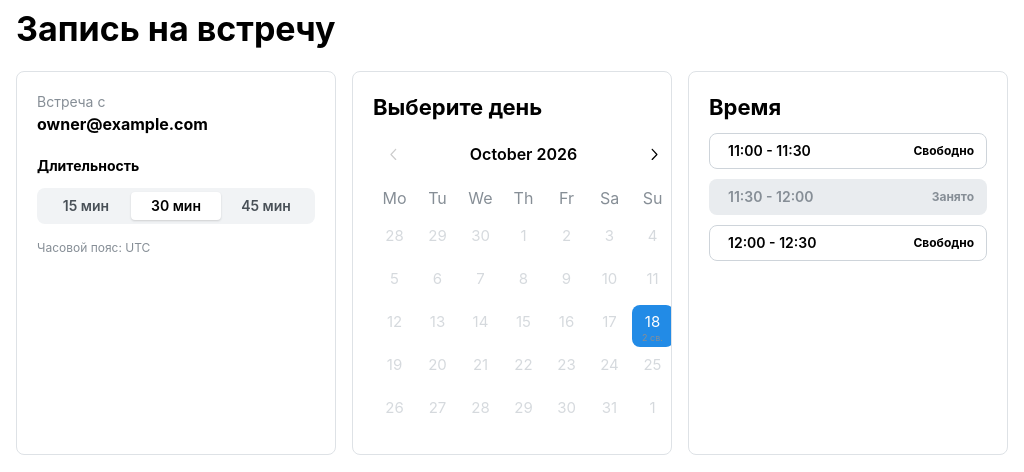
Test: гостевая страница: календарь владельца › смена длительности перезапрашивает лестницу
This screenshot has width=1024, height=472.
Expected: the button "11:00 - 11:30 Свободно" is shown, [709,133,987,169]
Step 1. Click the radio button labelled "45 мин" → coordinates (266, 206), box [241,197,291,214]
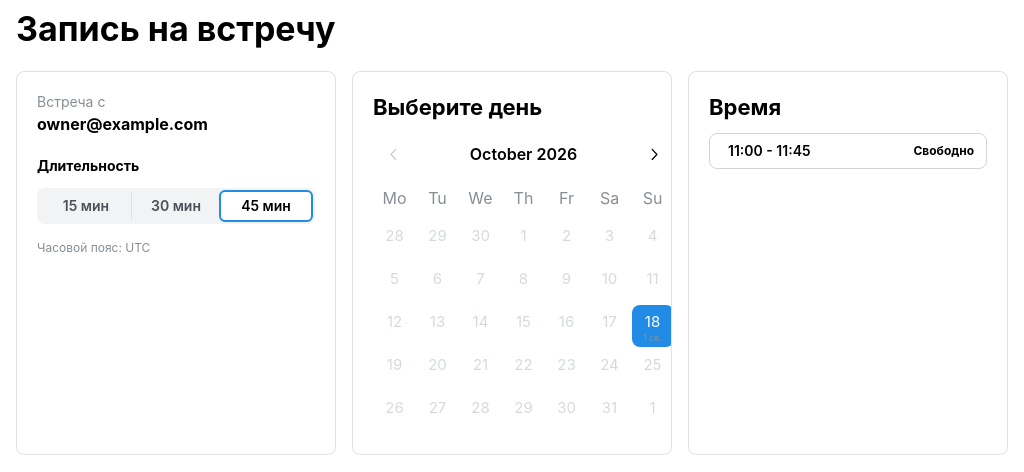
Now the button "11:00 - 11:45 Свободно" is shown, box [709,133,987,169]
